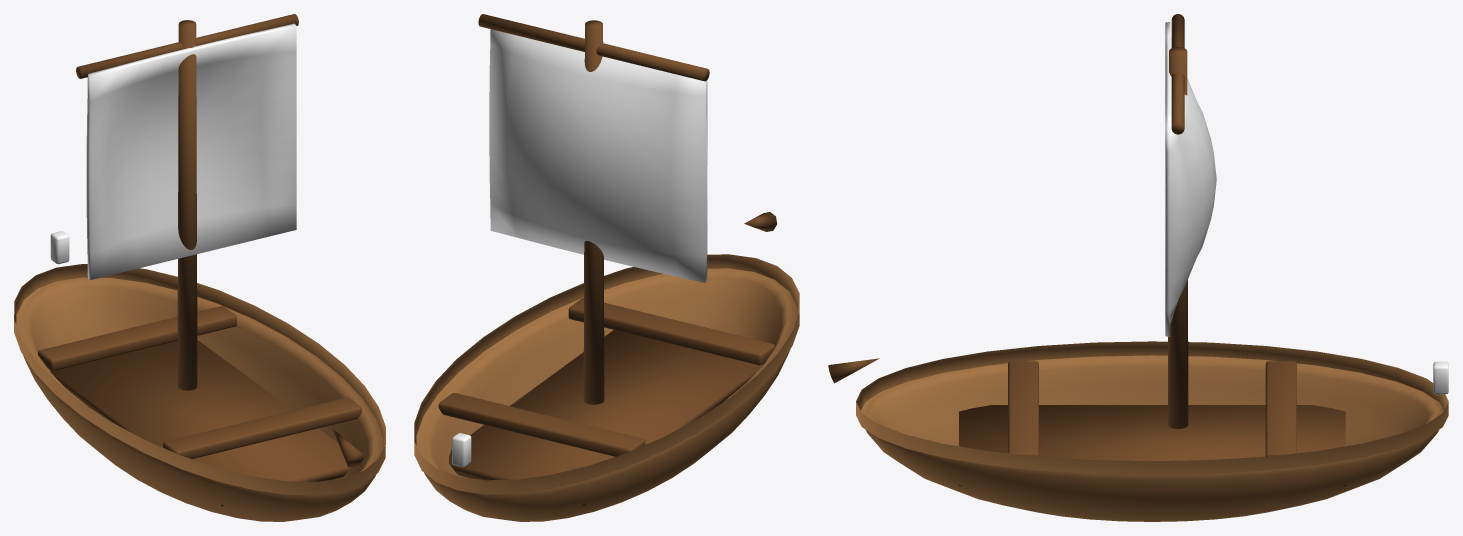
The model's file is bote.glb.
3 views of the same model, side by side, from view 1: azimuth 30°, elevation 25°; view 2: azimuth 150°, elevation 25°; view 3: azimuth 270°, elevation 25° (orthographic). The views are drawn at different scales.
Visible parts, largest first — view 1: Bote_fijo; view 2: Bote_fijo; view 3: Bote_fijo.
Part boxes in pixels (x1,y1,x2,y2): Bote_fijo: (14, 14, 385, 521); Bote_fijo: (414, 14, 799, 521); Bote_fijo: (828, 14, 1448, 521).
Size of the model in its own units: 1.1 by 1.95 by 2.41.
Materials: 2 (2 with a texture image).
